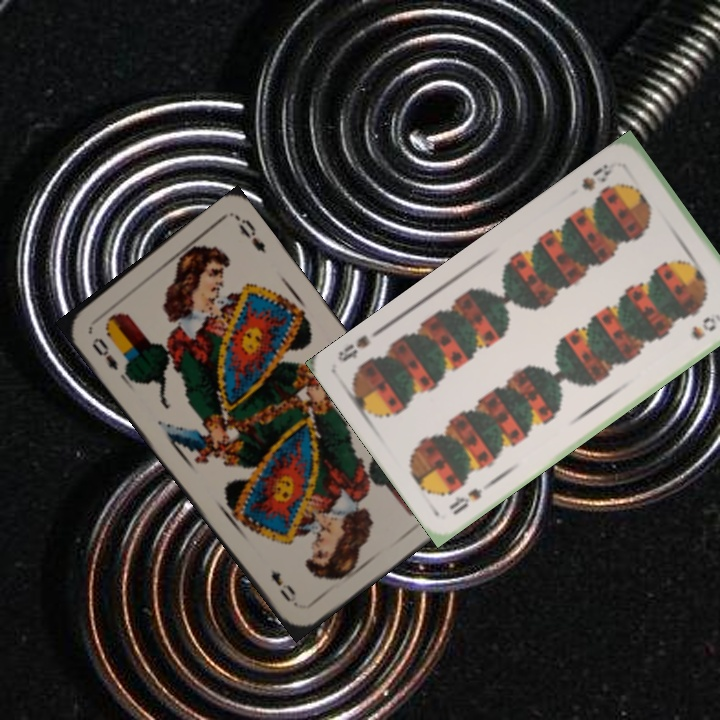EO: (87, 333, 121, 373)
S8: (445, 478, 495, 518), (577, 159, 620, 194)
